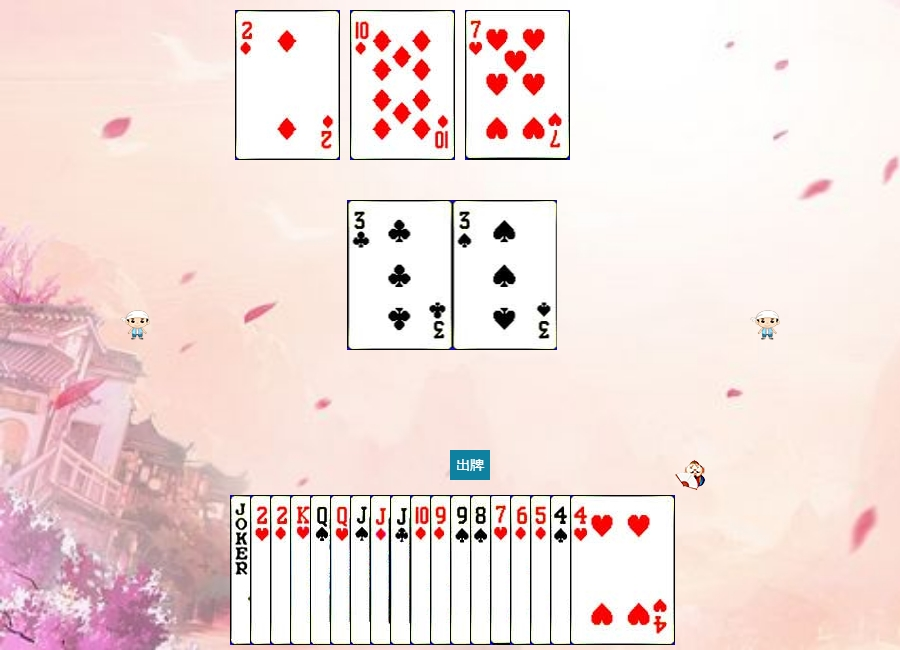10~1: (350, 10, 455, 160), (410, 495, 515, 645)
11~1: (370, 495, 475, 645)
11~2: (390, 495, 495, 645)
11~4: (350, 495, 455, 645)
12~3: (330, 495, 435, 645)
12~4: (310, 495, 415, 645)
13~3: (290, 495, 395, 645)
15~1: (235, 10, 340, 160), (270, 495, 375, 645)
15~3: (250, 495, 355, 645)
17~3: (230, 495, 335, 645)
3~2: (348, 200, 453, 350)
3~4: (453, 200, 558, 350)
4~3: (570, 495, 675, 645)
4~4: (550, 495, 655, 645)
5~1: (530, 495, 635, 645)
6~1: (510, 495, 615, 645)
7~3: (465, 10, 570, 160), (490, 495, 595, 645)
8~4: (470, 495, 575, 645)
9~1: (430, 495, 535, 645)
9~4: (450, 495, 555, 645)
